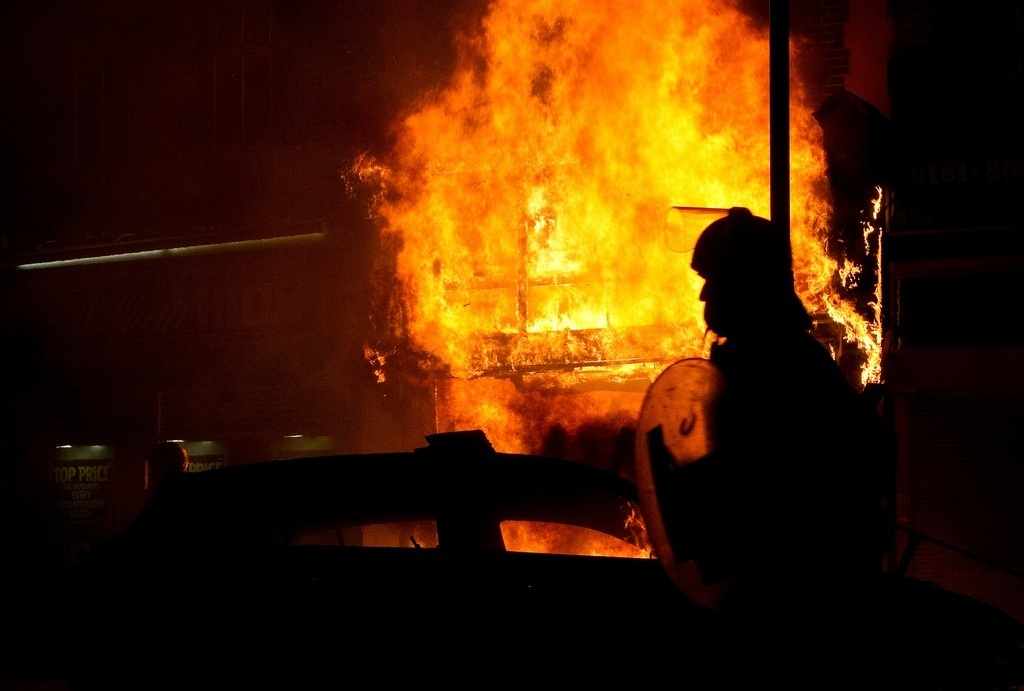fire: (359, 2, 910, 408)
